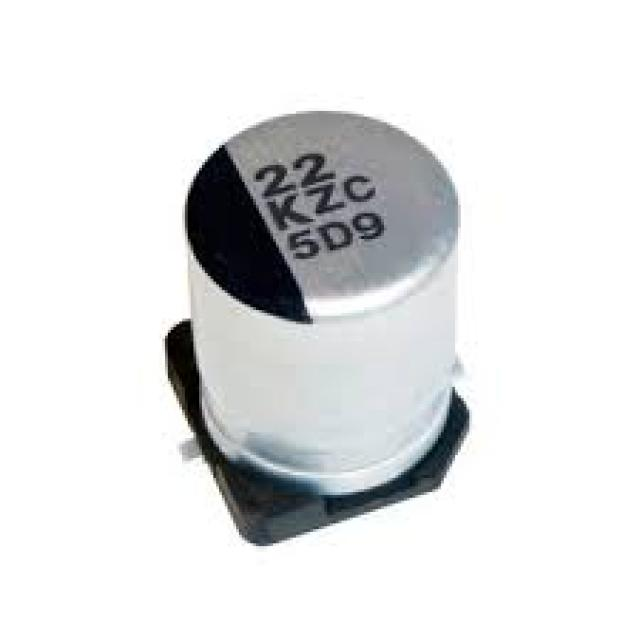Capacitor: (185, 111, 469, 543)
